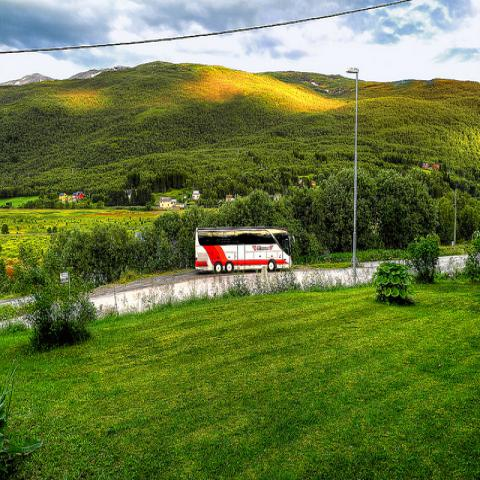bus: (195, 227, 295, 273)
